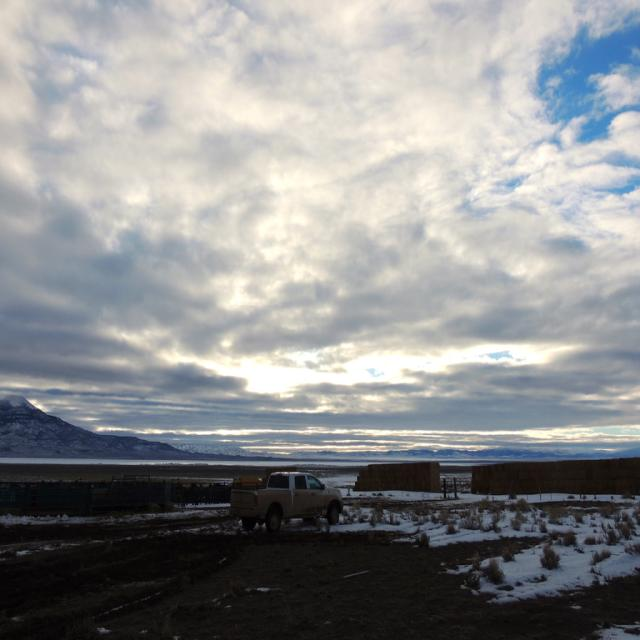car: (240, 477, 349, 538)
